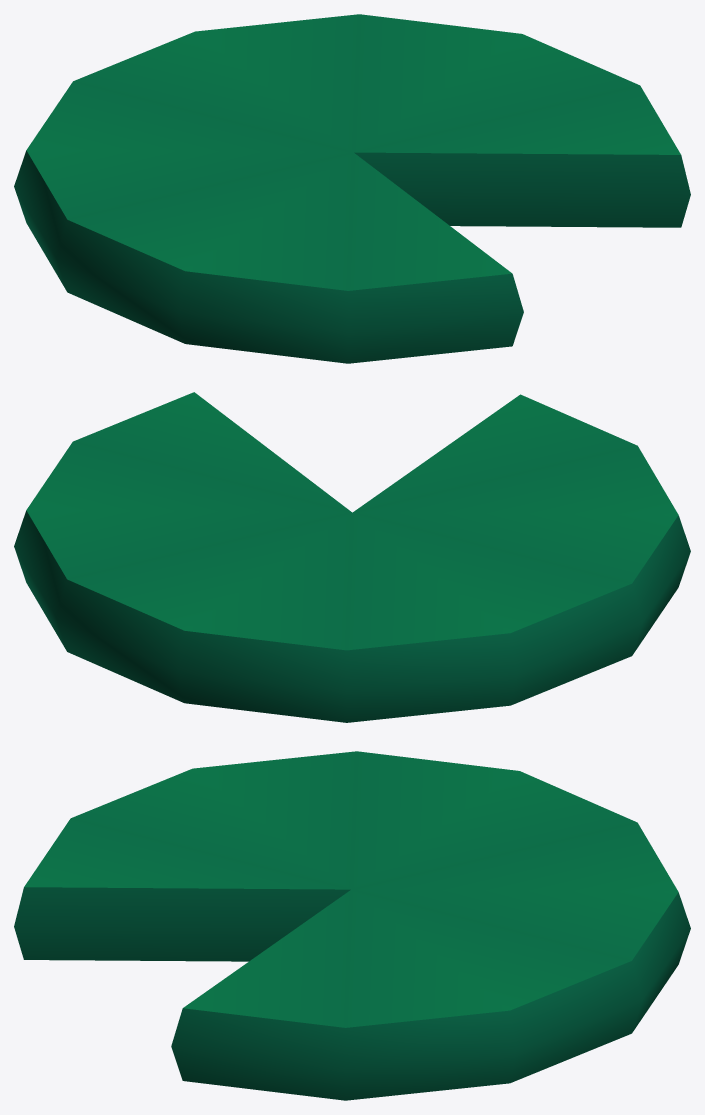
File: H_waterlily_A.glb
3 views of the same model, one above another, from view 1: azimuth 30°, elevation 25°; view 2: azimuth 150°, elevation 25°; view 3: azimuth 270°, elevation 25° (orthographic).
Visible parts, largest first — view 1: waterlily_A; view 2: waterlily_A; view 3: waterlily_A.
Part boxes in pixels (box(x1,y1,x2,y2)): waterlily_A: box(14, 14, 690, 363); waterlily_A: box(14, 392, 690, 722); waterlily_A: box(14, 751, 690, 1100).
Size of the model in its own units: 0.1451 by 0.0172 by 0.1446.
